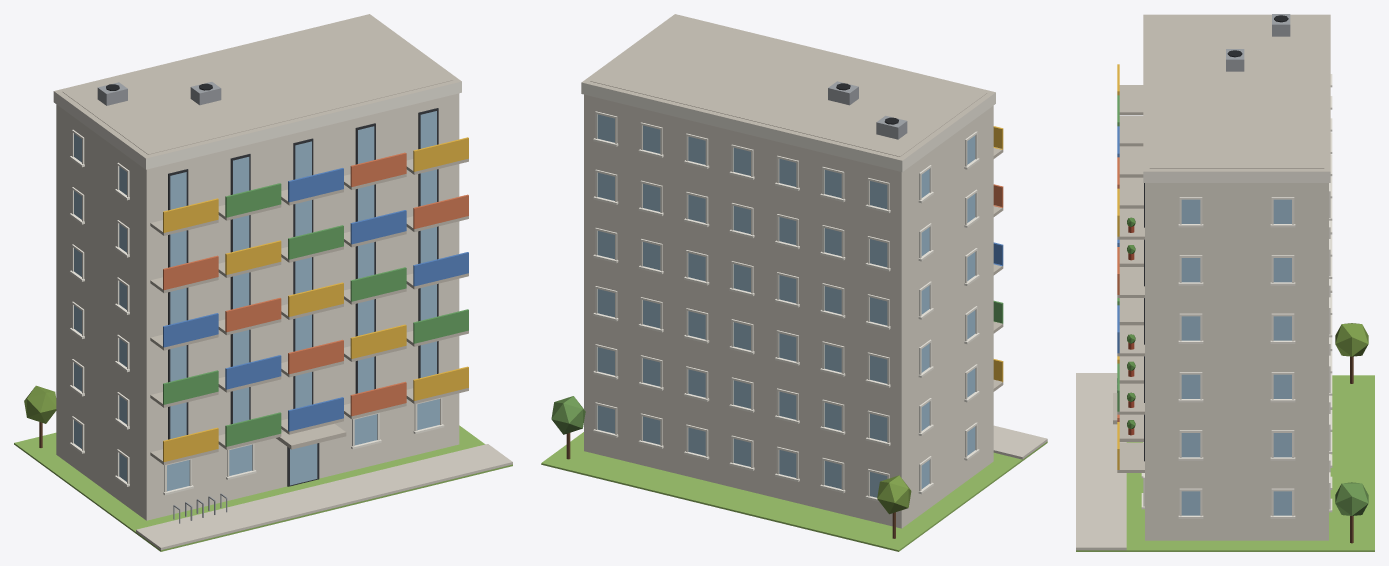
File: Konut_balkonlu_blok_1_Hafif.fbx
The picture shows the model from 3 angles, left to right: view 1: azimuth 30°, elevation 25°; view 2: azimuth 150°, elevation 25°; view 3: azimuth 270°, elevation 25°; orthographic projection.
Parts seen in each view (by area): view 1: Konut_balkonlu_blok_1_Hafif; view 2: Konut_balkonlu_blok_1_Hafif; view 3: Konut_balkonlu_blok_1_Hafif.
Boxes of the visible parts, x1,y1,x2,y2 form: Konut_balkonlu_blok_1_Hafif: (14,14,512,551); Konut_balkonlu_blok_1_Hafif: (541,14,1047,551); Konut_balkonlu_blok_1_Hafif: (1076,14,1374,551).
Size of the model in its own units: 18 by 18.48 by 13.
